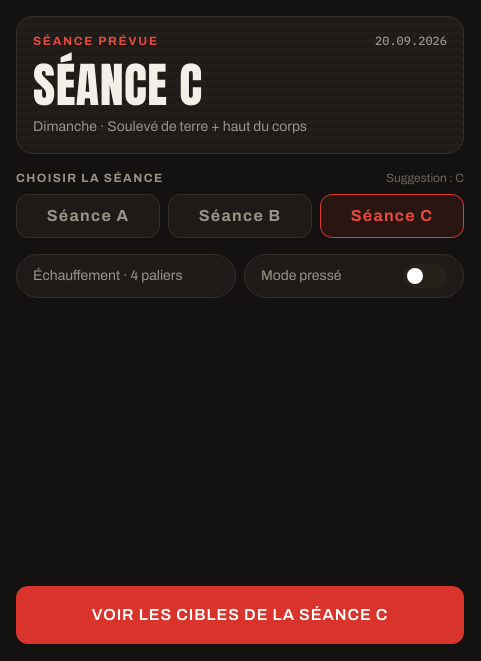
Test: SessionLanding › présente uniquement les données réelles nécessaires avant la séance
expect the heading "Séance C" is shown: met, box [33,49,202,121]
expect the text "Dimanche · Soulevé de terre + haut du corps" is shown: met, box [33,119,307,134]
Click the button "Voir les cibles de la séance C" at (240, 615), box [16,586,464,644]
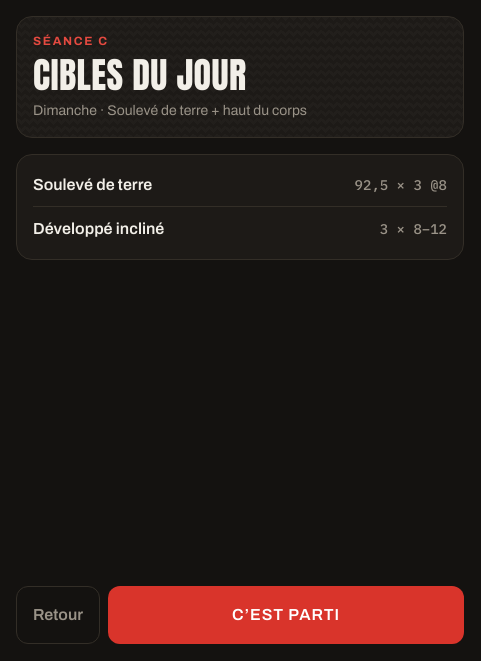
expect the text "Soulevé de terre" is shown: met, box [33,172,152,196]
expect the text "92,5 × 3 @8" is shown: met, box [355,174,447,194]
